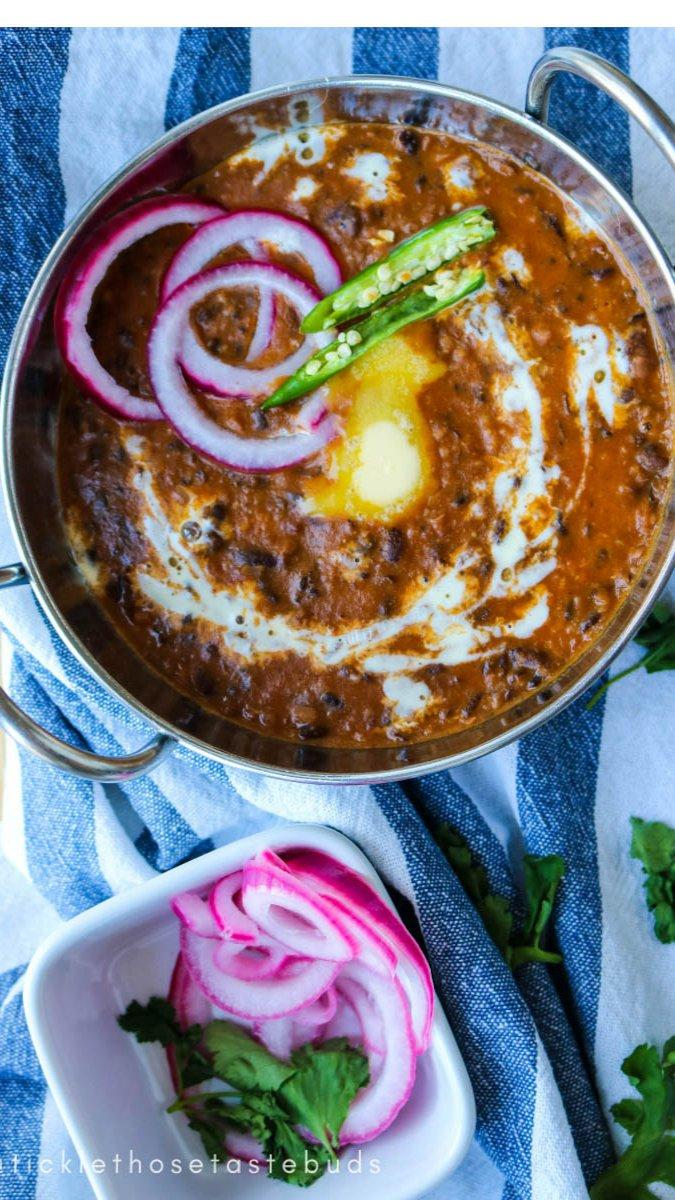Dal Makhani: (16, 114, 675, 765)
